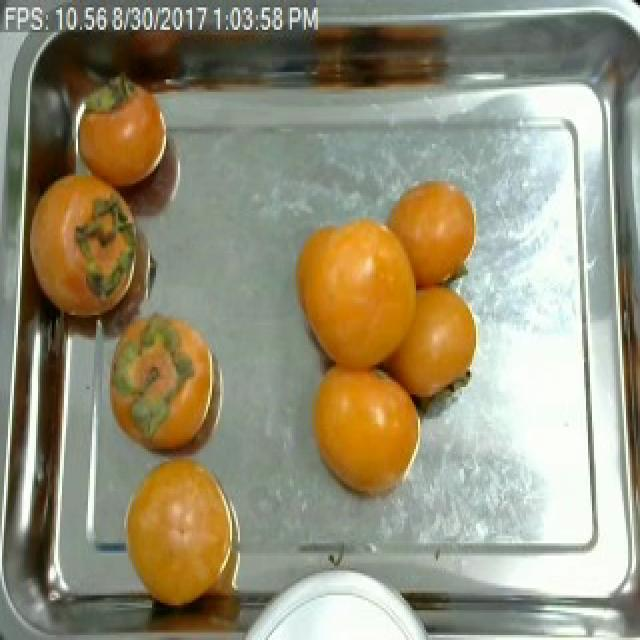Fruit: (94, 295, 236, 474), (284, 206, 428, 377), (112, 447, 252, 622), (300, 352, 428, 514), (24, 161, 144, 330), (368, 275, 486, 427), (380, 171, 488, 298), (66, 92, 176, 201)
